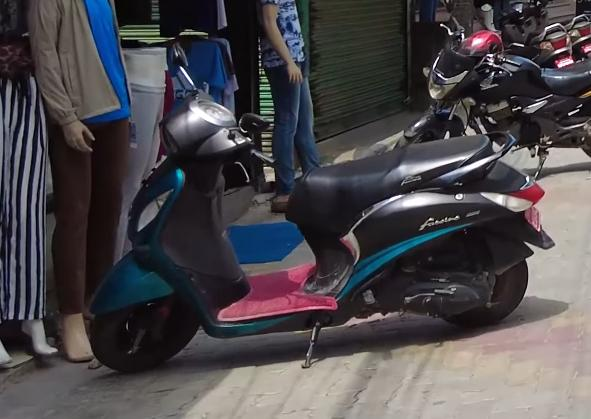scooter: (91, 44, 554, 388)
